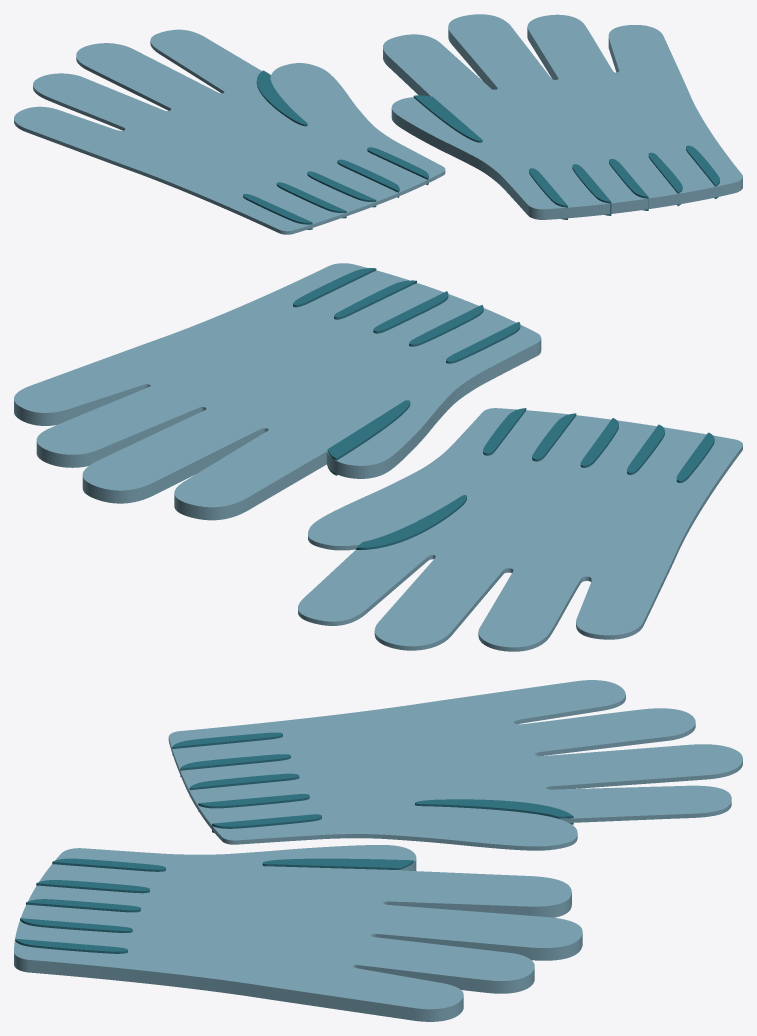
The model's file is emoji_u1f9e4.glb.
3 views of the same model, one above another, from view 1: azimuth 30°, elevation 25°; view 2: azimuth 150°, elevation 25°; view 3: azimuth 270°, elevation 25° (orthographic). The views are drawn at different scales.
Parts seen in each view (by area): view 1: emoji_u1f9e4; view 2: emoji_u1f9e4; view 3: emoji_u1f9e4.
Boxes of the visible parts, x1,y1,x2,y2 form: emoji_u1f9e4: (14, 14, 742, 234); emoji_u1f9e4: (14, 263, 742, 651); emoji_u1f9e4: (14, 680, 742, 1021).
Bounding box in the file's own units: 0.0338 × 0.0008 × 0.0312.
